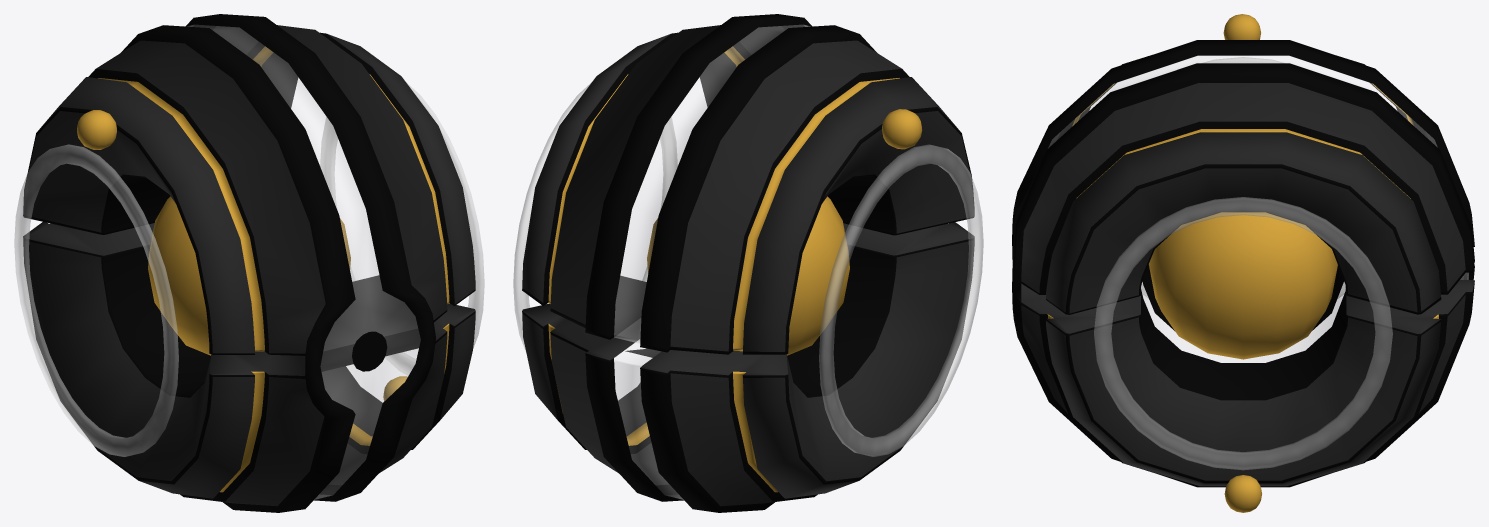
File: Observer.fbx
3 views of the same model, side by side, from view 1: azimuth 30°, elevation 25°; view 2: azimuth 150°, elevation 25°; view 3: azimuth 270°, elevation 25° (orthographic). The views are drawn at different scales.
Parts seen in each view (by area): view 1: Body; view 2: Body; view 3: Body.
Part boxes in pixels (x1,y1,x2,y2): Body: (14,14,484,512); Body: (513,14,983,512); Body: (1012,14,1474,512).
Bounding box in the file's own units: 1.37 × 1.69 × 1.71.
